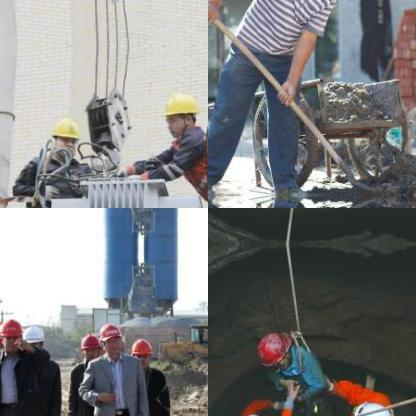Helmet: (157, 88, 201, 136), (254, 330, 294, 368), (48, 113, 80, 152), (0, 314, 24, 352), (98, 318, 122, 356), (21, 322, 47, 356), (130, 335, 154, 367), (78, 330, 100, 362), (351, 398, 391, 415), (0, 328, 6, 356)
